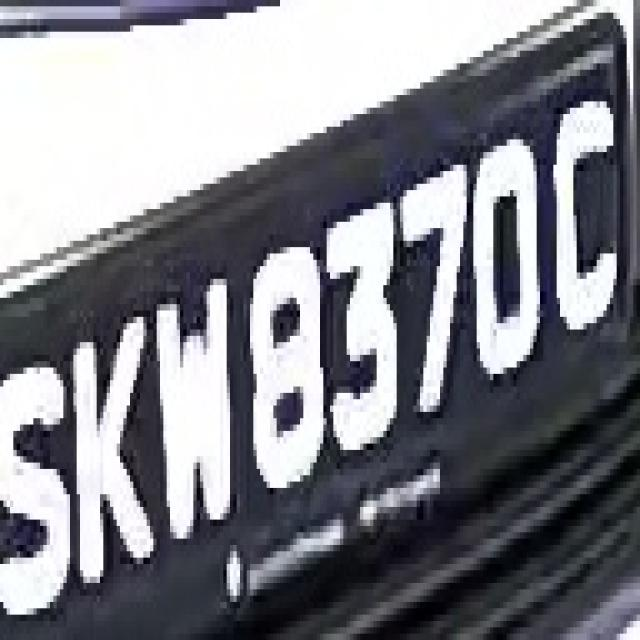0: (467, 127, 550, 380)
3: (320, 184, 403, 469)
7: (396, 171, 476, 437)
8: (243, 228, 330, 507)
C: (543, 82, 630, 355)
K: (67, 316, 150, 596)
S: (0, 355, 67, 634)
W: (143, 272, 250, 545)
